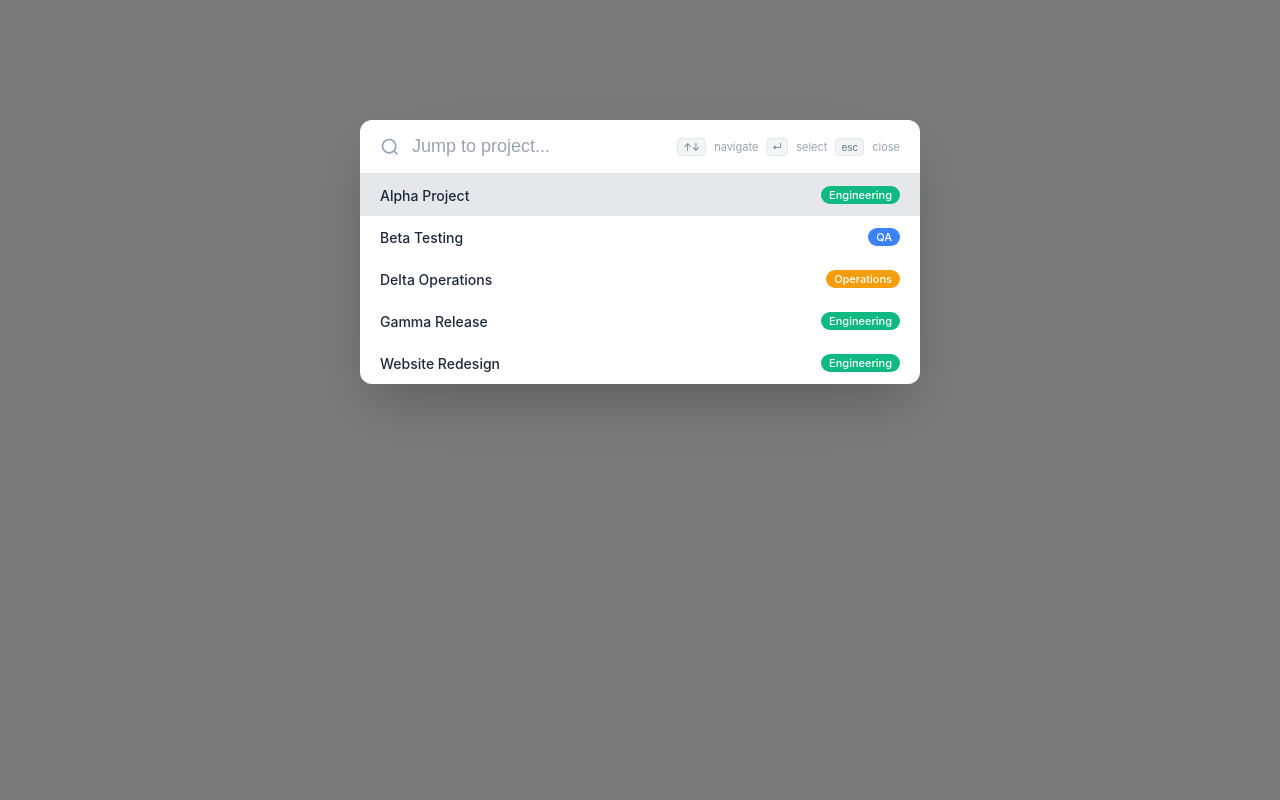
Test case: JumpToProject › Search Functionality › should show no results message when no matches
Expected: the text "Alpha Project" is shown, [380,186,469,204]
Step 1. Type "xyz123" into the field with placeholder "Jump to project..." → [539, 146], box [412,136,666,157]
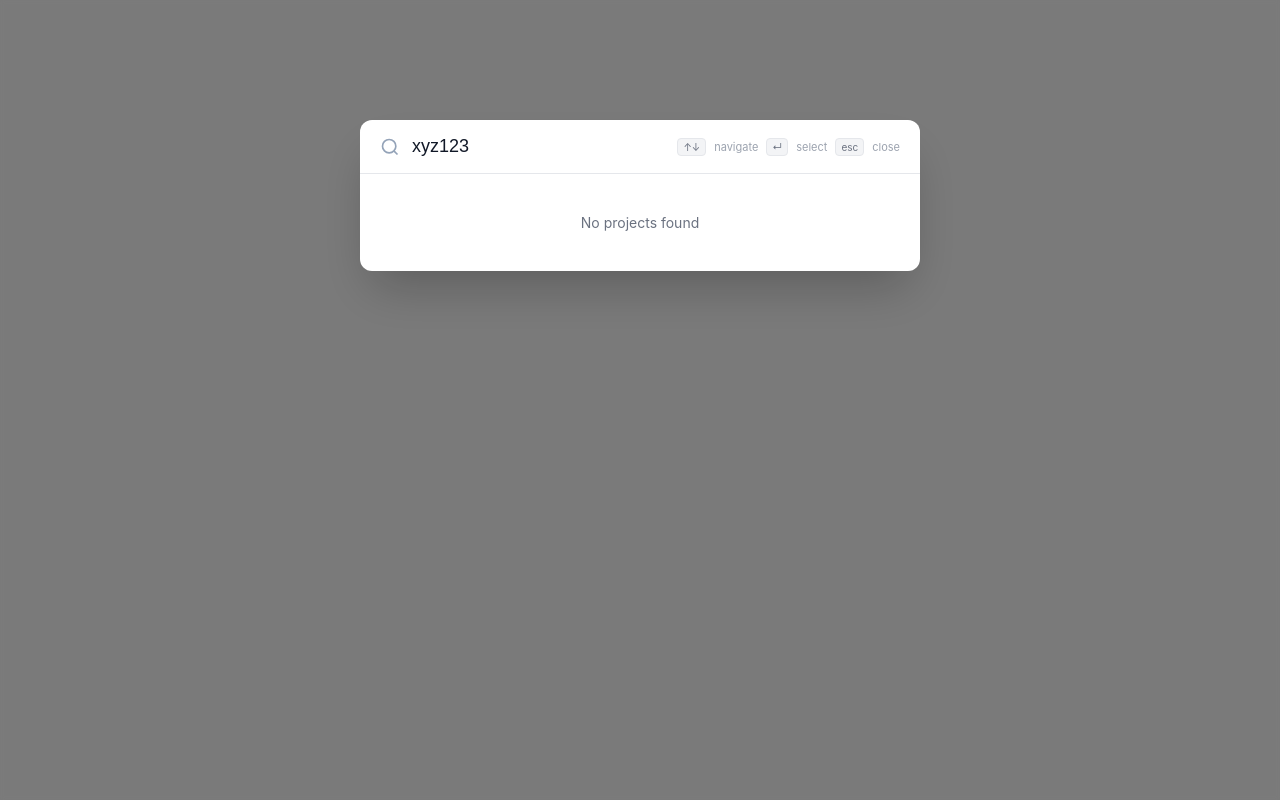
Result: the text "No projects found" is shown at [581,214,699,231]
